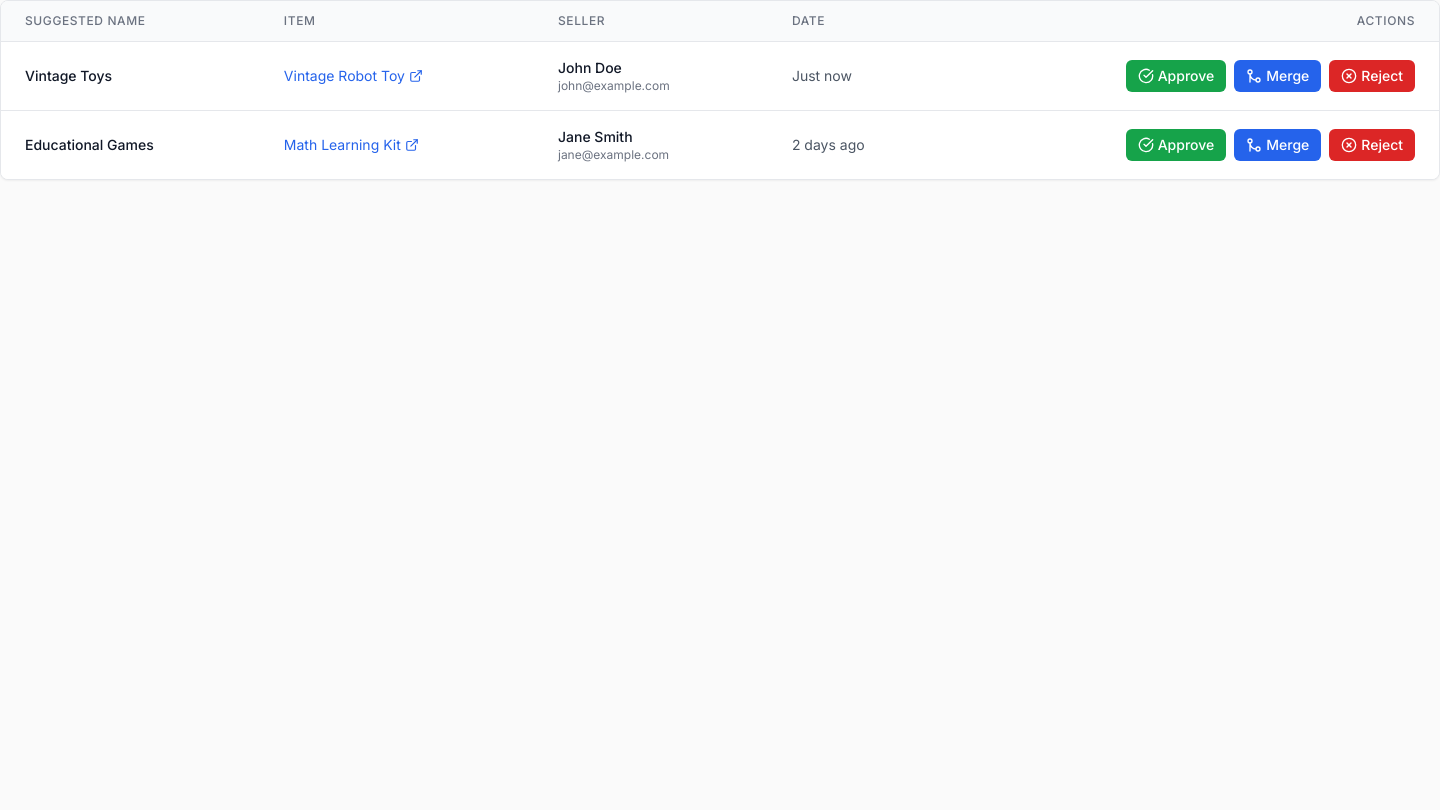
Test case: CategorySuggestionsList › Modal Interactions › opens merge modal when merge button clicked
What coordinates should you click on to do the following:
click the button with test id "merge-btn-sug-001"
I would click on:
 (1278, 76)
Its box is [1234,60,1321,92].
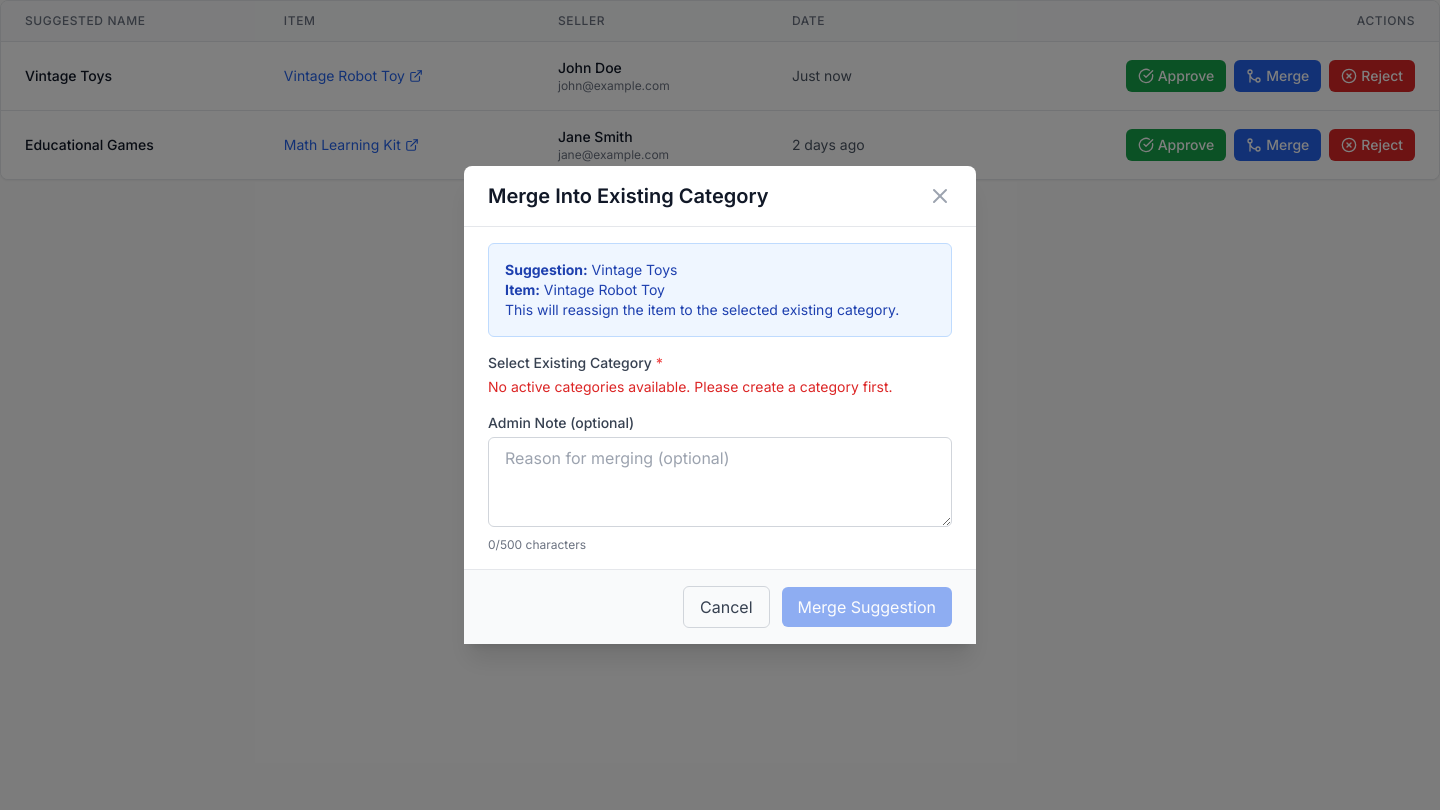
Expected: the heading "Merge Into Existing Category" is shown, [488,182,768,210]
